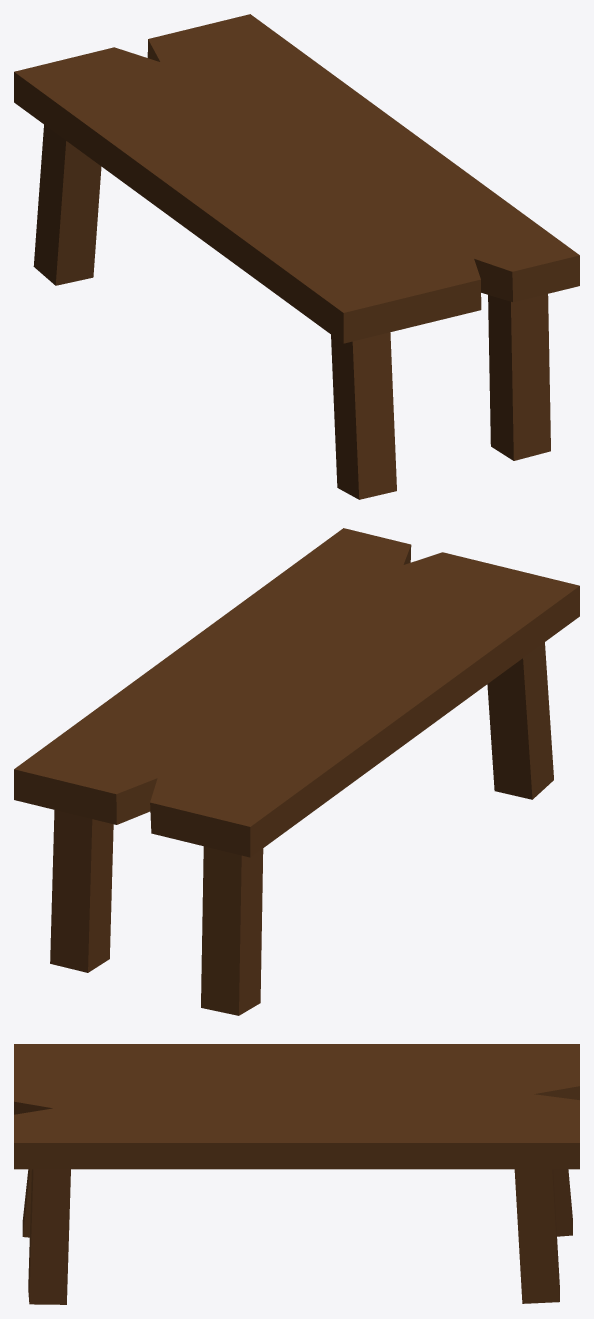
Rendered from bench.fbx.
The picture shows the model from 3 angles, top to bottom: view 1: azimuth 30°, elevation 25°; view 2: azimuth 150°, elevation 25°; view 3: azimuth 270°, elevation 25°; orthographic projection. The views are drawn at different scales.
Visible parts, largest first — view 1: Cube.001; view 2: Cube.001; view 3: Cube.001.
Boxes of the visible parts, x1=… form: Cube.001: x1=14, y1=14, x2=579, y2=499; Cube.001: x1=14, y1=528, x2=579, y2=1015; Cube.001: x1=14, y1=1044, x2=579, y2=1304.
Bounding box in the file's own units: 110 × 88.92 × 266.
